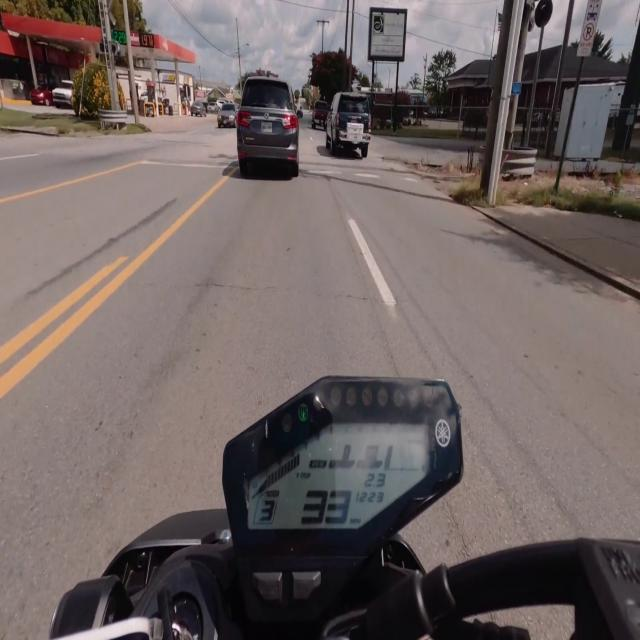car: (237, 76, 301, 177), (326, 92, 371, 158), (218, 103, 236, 127), (191, 100, 206, 116)
motorcycle: (50, 377, 639, 639)
